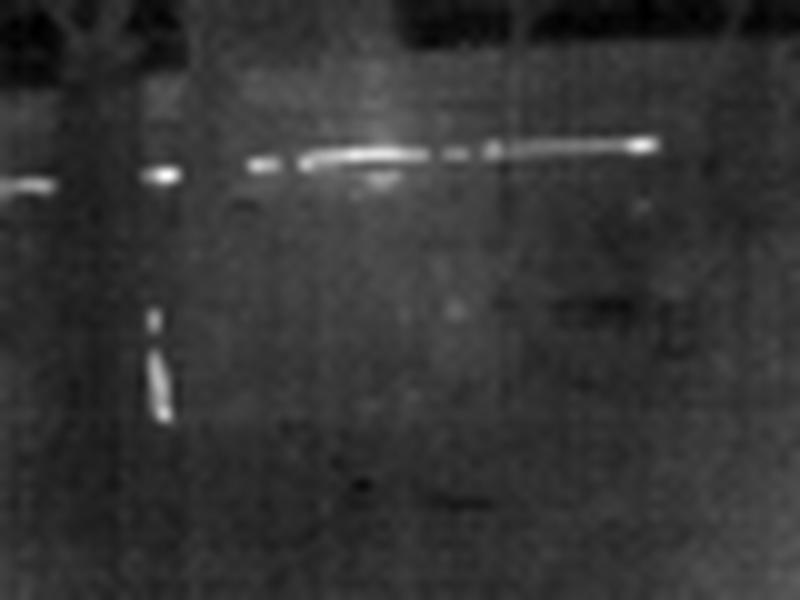elephant: (122, 310, 205, 412)
